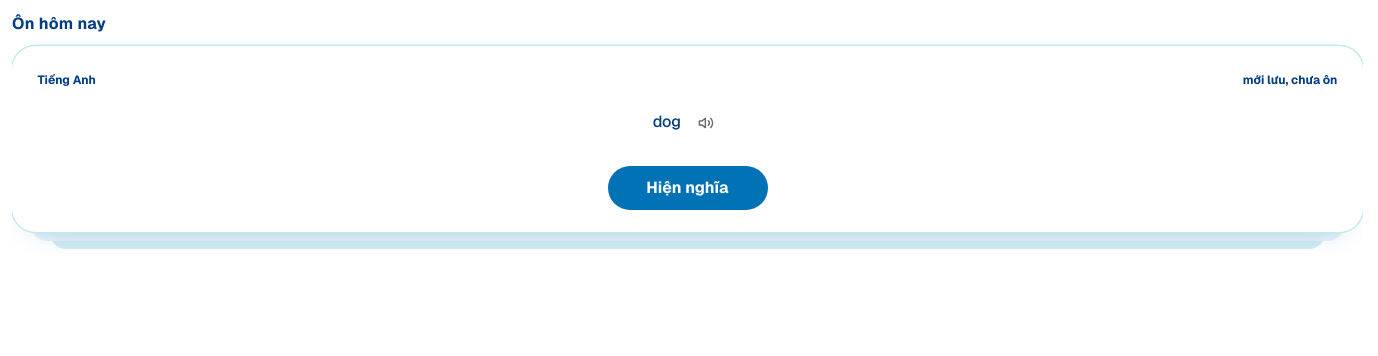
Test: HomeReviewDeck › marks today as studied once, on the first grade
Click the button "Hiện nghĩa".
click(688, 188)  # box [608,166,768,210]
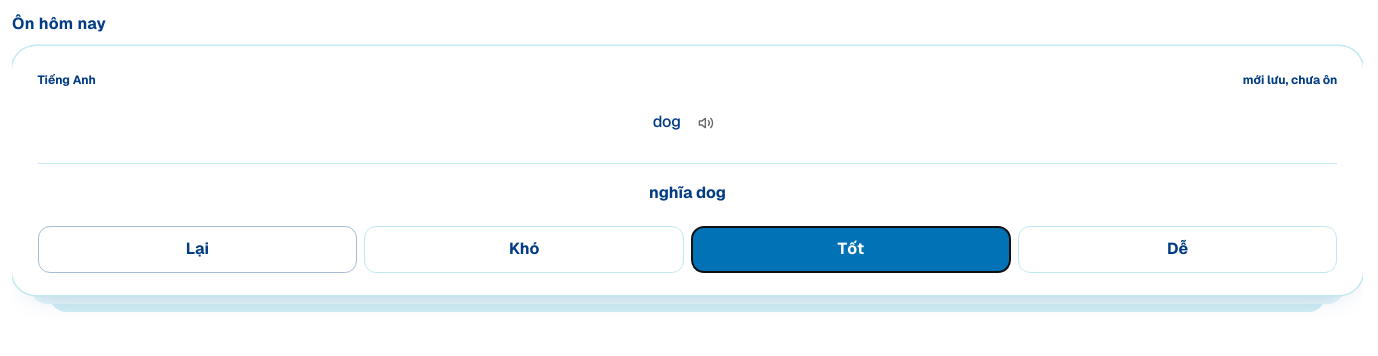
Click the button "Tốt".
click(851, 249)  # box [691,226,1011,273]
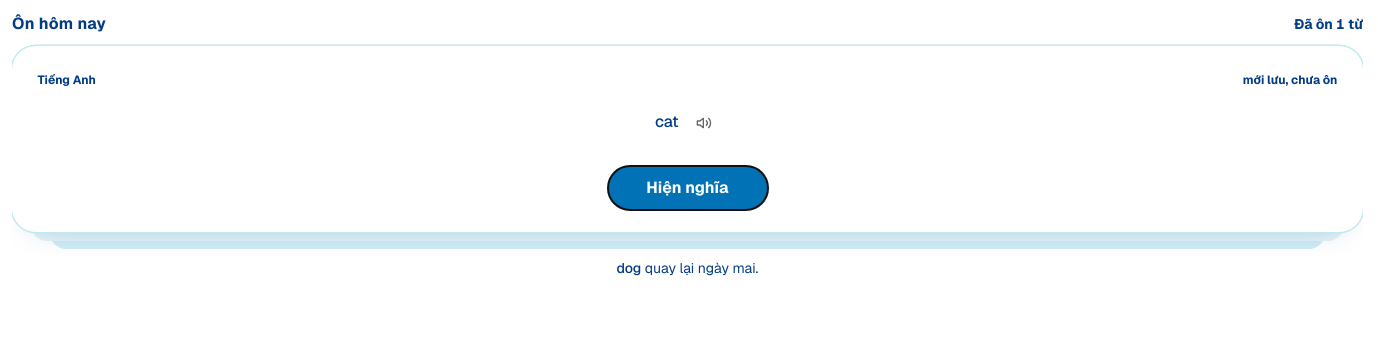
Now the text "cat" is shown, box [655,114,678,131]
Click the button "Hiện nghĩa".
click(688, 188)  # box [608,166,768,210]
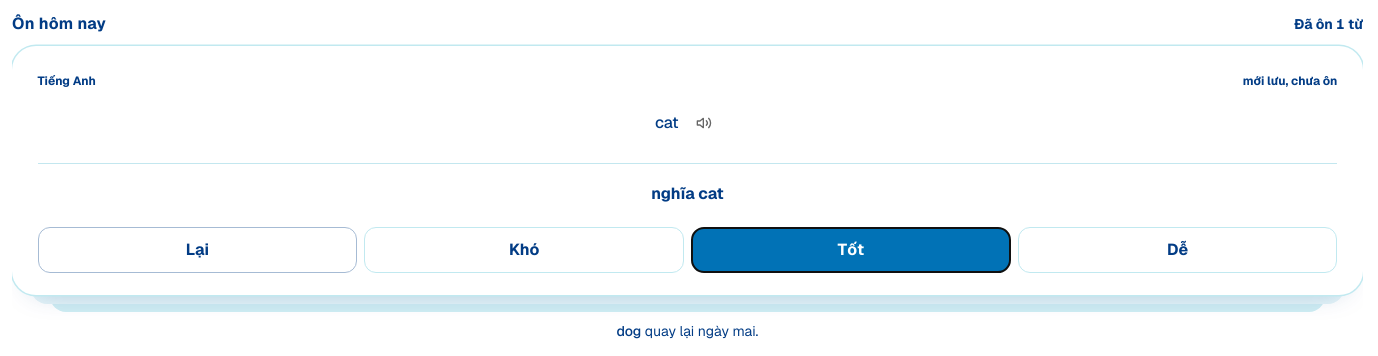
Click the button "Khó".
click(524, 249)  # box [364,226,684,273]
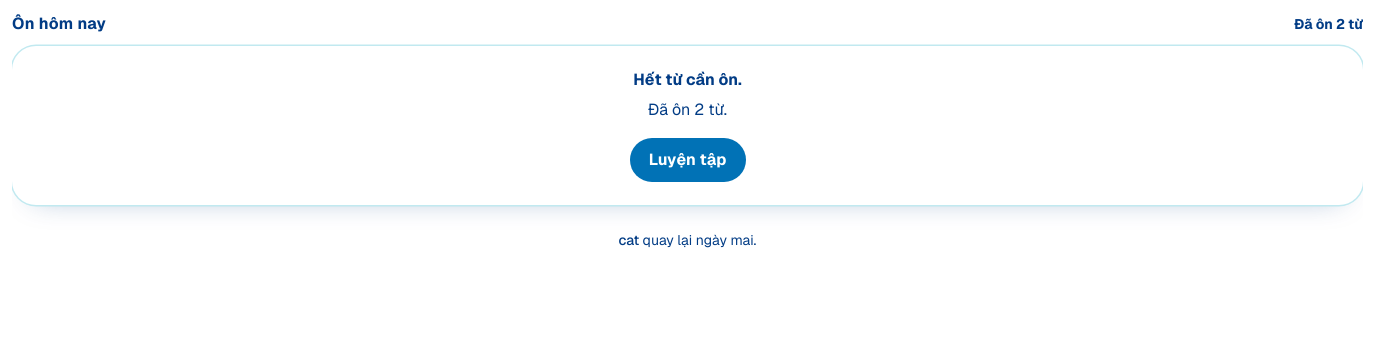
Now the text "Hết từ cần ôn." is shown, box [633,69,742,90]
Now the text "Đã ôn 2 từ." is shown, box [648,99,727,120]
